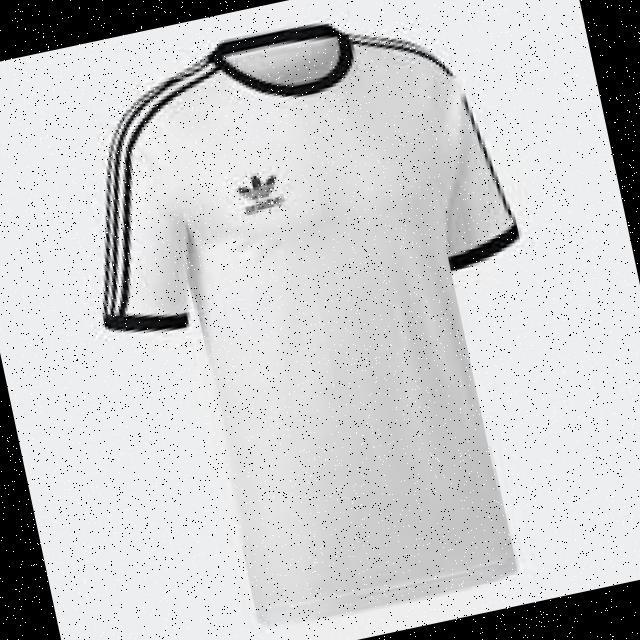Adidas: (233, 169, 283, 220)
